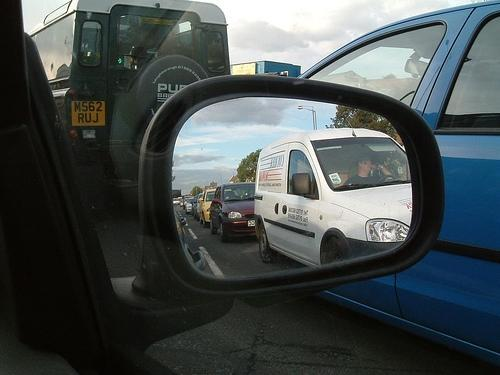car: (292, 0, 500, 304), (210, 182, 257, 242), (197, 188, 216, 228), (192, 194, 202, 219), (184, 197, 194, 215), (180, 198, 186, 209), (173, 198, 180, 204)
truck: (28, 1, 232, 220), (252, 125, 414, 268)
